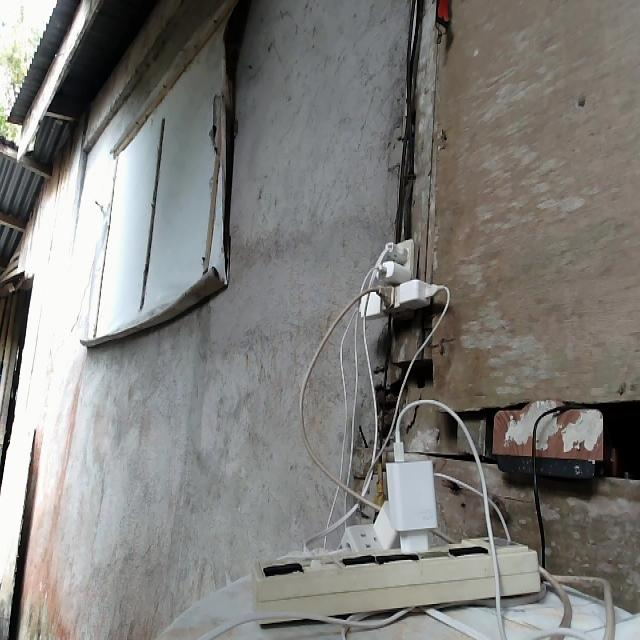-: (352, 234, 436, 322)
